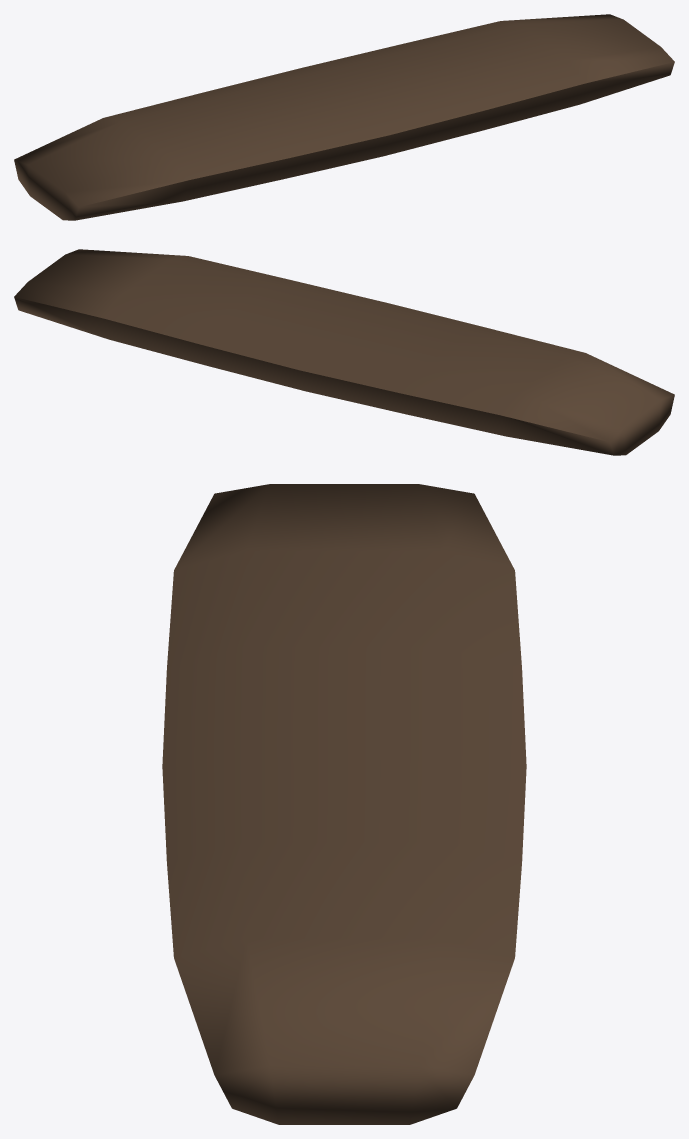
The model's file is bench_lod2.glb.
3 views of the same model, one above another, from view 1: azimuth 30°, elevation 25°; view 2: azimuth 150°, elevation 25°; view 3: azimuth 270°, elevation 25° (orthographic). The views are drawn at different scales.
Parts seen in each view (by area): view 1: bench_lod2; view 2: bench_lod2; view 3: bench_lod2.
Part boxes in pixels (x1,y1,x2,y2): bench_lod2: (14,14,674,220); bench_lod2: (14,249,674,455); bench_lod2: (162,484,526,1124).
Size of the model in its own units: 1 by 0.0716 by 0.2647.
